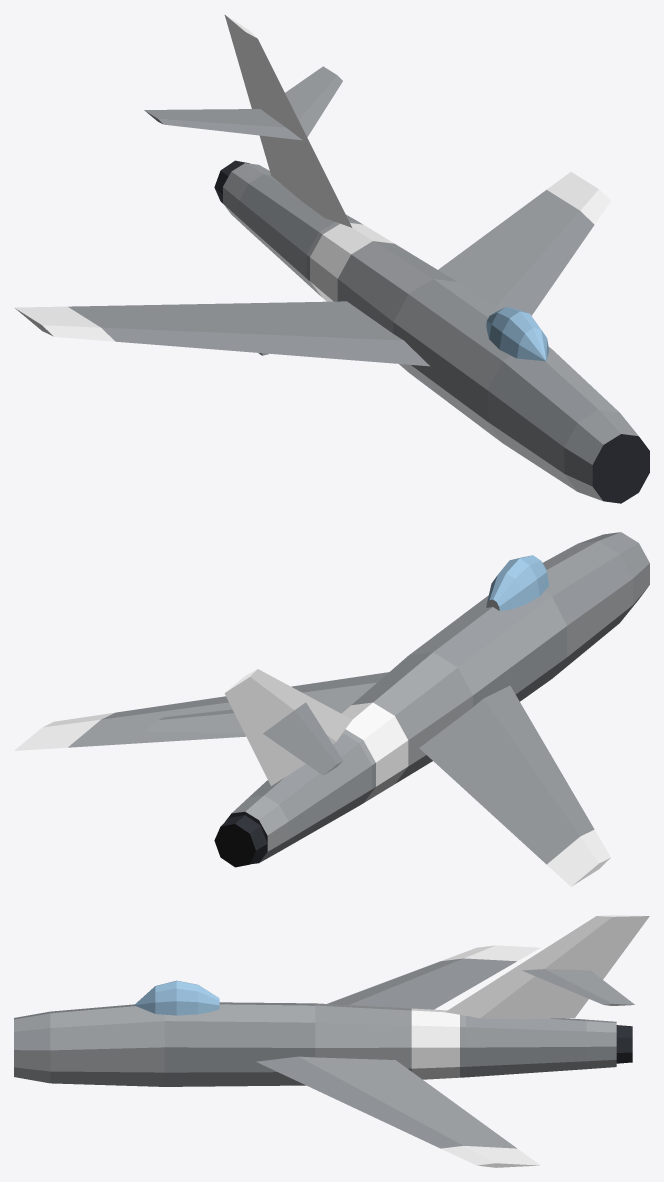
The model's file is mig17f_lod.glb.
3 renders of one model, top to bottom at view 1: azimuth 30°, elevation 25°; view 2: azimuth 150°, elevation 25°; view 3: azimuth 270°, elevation 25°, orthographic. The views are drawn at different scales.
Visible parts, largest first — view 1: body; view 2: body; view 3: body.
Boxes of the visible parts, <box> form: body: <box>14,15,649,503</box>; body: <box>14,532,649,886</box>; body: <box>14,915,649,1167</box>.
Bounding box in the file's own units: 9.63 × 3.49 × 11.88.
